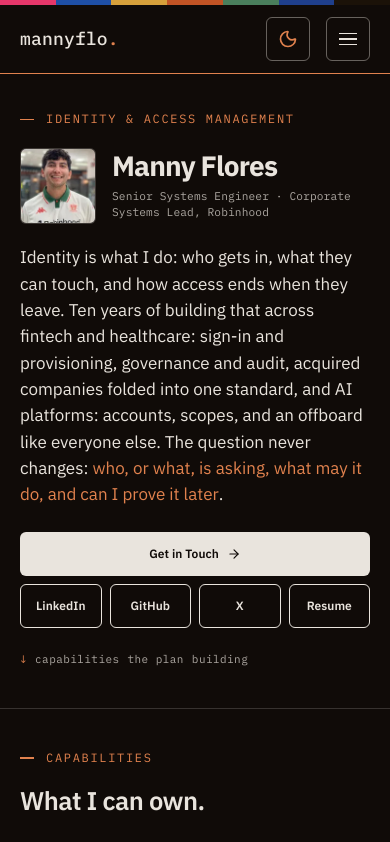
Test: App › opens and closes the mobile menu via the hamburger button
This screenshot has width=390, height=842.
What coordinates should you click on to do the following:
click the button named "open menu"
I would click on:
 (348, 39)
Its box is [326,17,370,61].
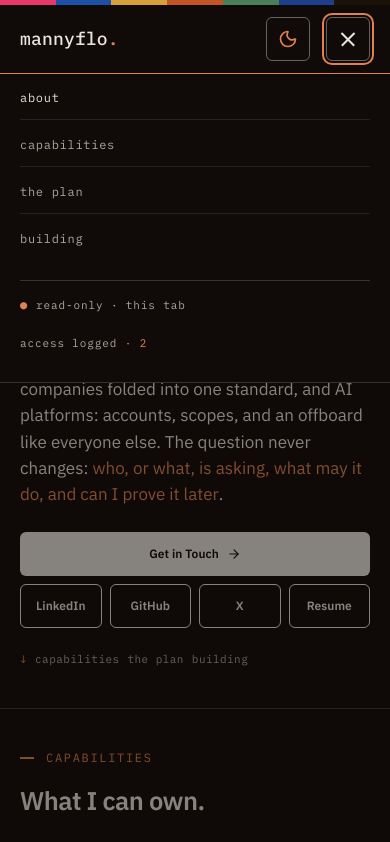
Result: the button named "open menu" is expanded at [326,17,370,61]
